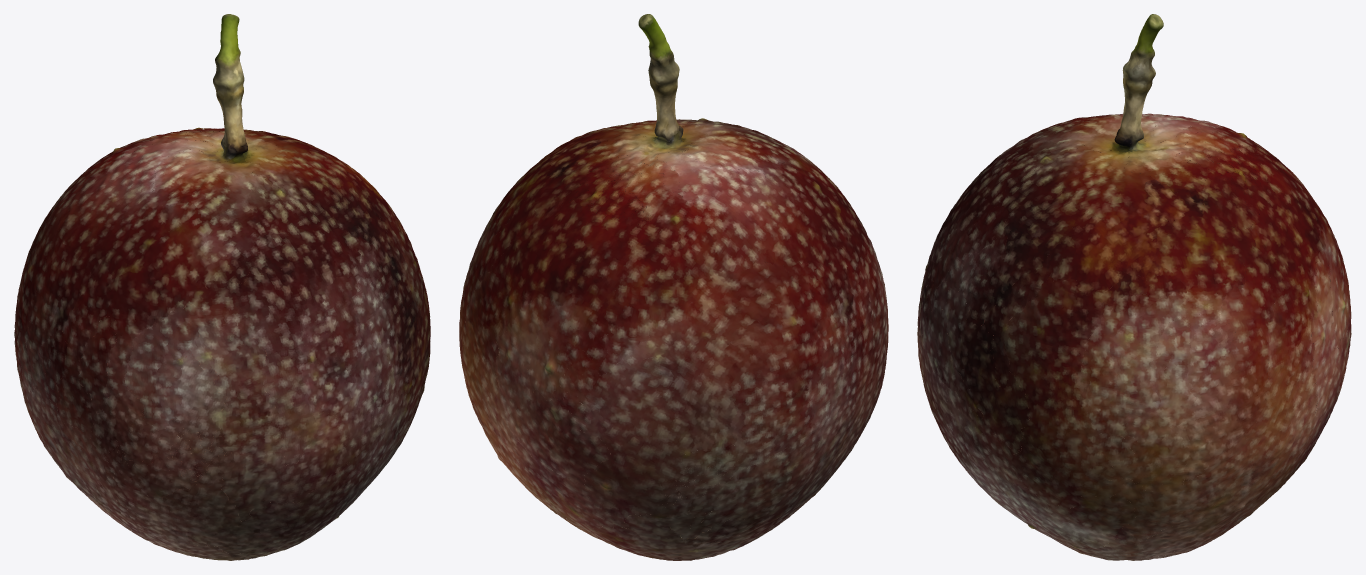
The model's file is passion_fruit.glb.
3 renders of one model, left to right at view 1: azimuth 30°, elevation 25°; view 2: azimuth 150°, elevation 25°; view 3: azimuth 270°, elevation 25°, orthographic. The views are drawn at different scales.
Parts seen in each view (by area): view 1: Object_2, Object_3, Object_4; view 2: Object_3, Object_2, Object_4; view 3: Object_2, Object_3, Object_4.
Boxes of the visible parts, bbox=[...] form: Object_2: bbox=[14, 14, 430, 558]; Object_3: bbox=[18, 127, 423, 560]; Object_4: bbox=[15, 139, 430, 543]; Object_3: bbox=[461, 134, 888, 559]; Object_2: bbox=[461, 14, 886, 560]; Object_4: bbox=[459, 119, 885, 557]; Object_2: bbox=[917, 14, 1351, 560]; Object_3: bbox=[917, 113, 1350, 560]; Object_4: bbox=[934, 144, 1351, 557].
Bounding box in the file's own units: 1.38 × 1.91 × 1.41.
1 material, 1 textured.
